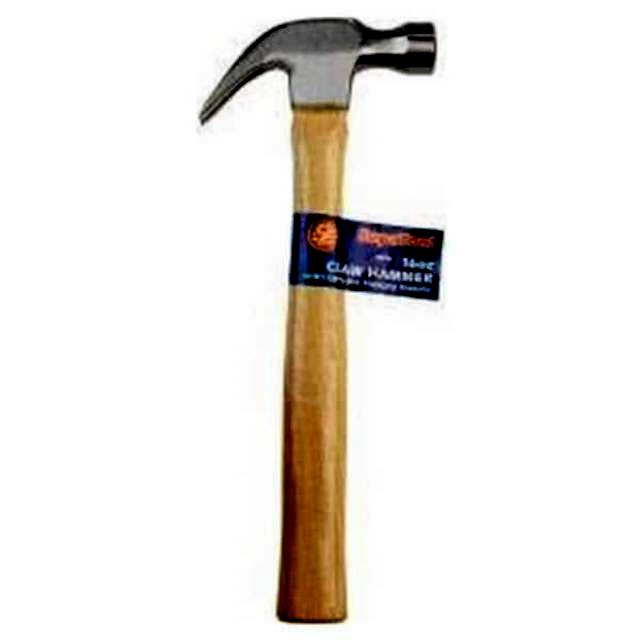hammer: (180, 15, 448, 621)
